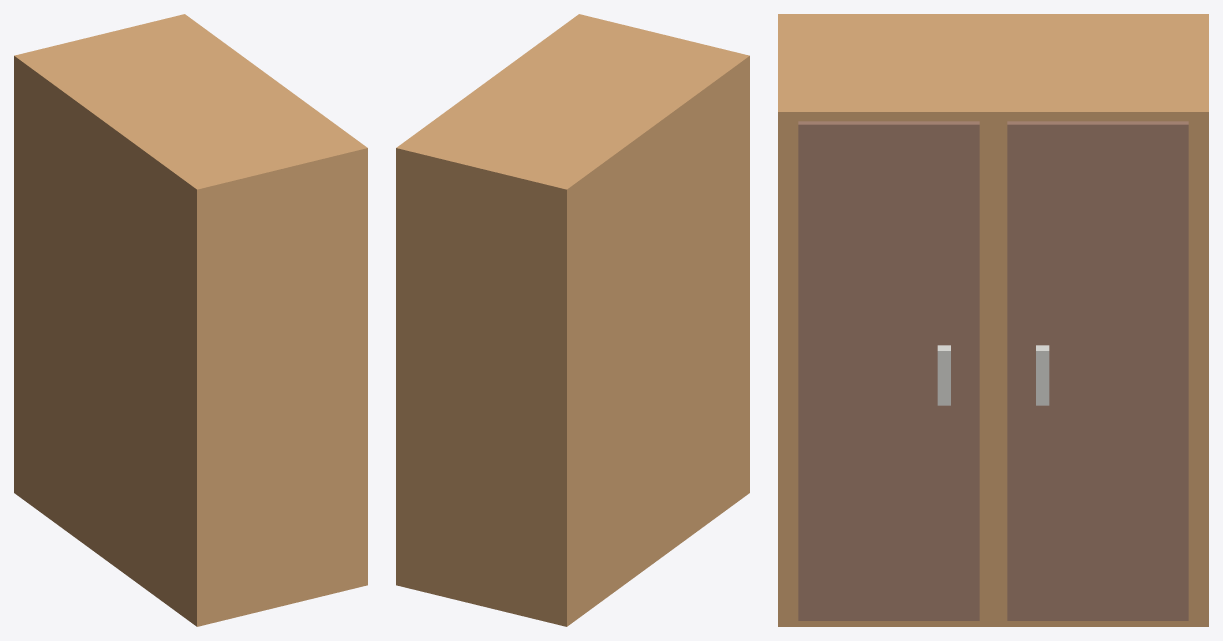
File: closet.fbx
3 views of the same model, side by side, from view 1: azimuth 30°, elevation 25°; view 2: azimuth 150°, elevation 25°; view 3: azimuth 270°, elevation 25° (orthographic). The views are drawn at different scales.
Parts seen in each view (by area): view 1: closet; view 2: closet; view 3: closet.
Boxes of the visible parts, x1,y1,x2,y2 form: closet: (14,14,367,626); closet: (396,14,749,626); closet: (778,14,1208,626).
Bounding box in the file's own units: 178 × 105 × 235.
